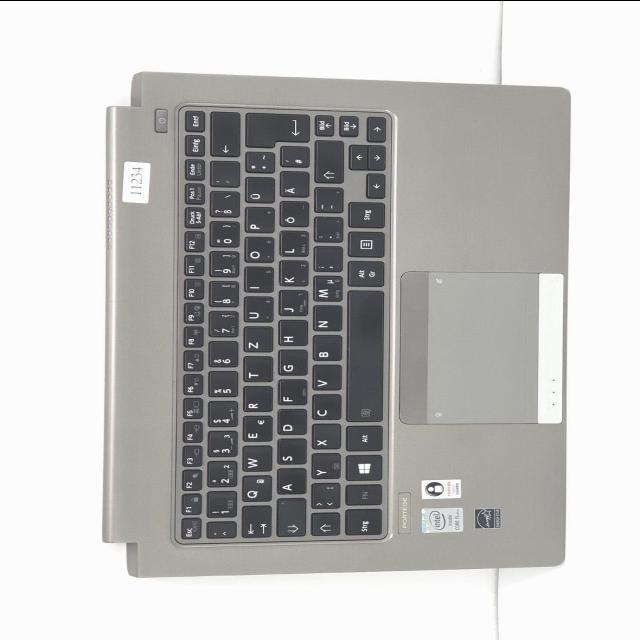0: (207, 222, 238, 249)
1: (204, 492, 235, 519)
2: (205, 461, 236, 488)
3: (205, 432, 235, 459)
4: (205, 403, 235, 429)
5: (206, 373, 236, 399)
6: (206, 342, 236, 368)
7: (206, 312, 237, 339)
8: (207, 282, 237, 308)
9: (207, 252, 237, 279)
a: (274, 469, 304, 496)
accent: (208, 162, 238, 188)
ae: (278, 172, 308, 199)
alt-left: (344, 427, 381, 453)
altgr-right: (345, 261, 383, 288)
b: (309, 336, 340, 363)
c: (310, 395, 340, 421)
caret: (204, 523, 234, 540)
comma: (311, 247, 341, 273)
d: (274, 411, 305, 437)
del: (208, 113, 238, 158)
e: (240, 417, 271, 444)
enter: (241, 114, 309, 149)
f: (275, 381, 305, 407)
g: (275, 352, 305, 378)
h: (276, 321, 306, 347)
hash: (278, 147, 308, 169)
i: (242, 268, 272, 294)
j: (276, 292, 307, 318)
k: (277, 262, 307, 288)
keyboard: (167, 102, 399, 550)
l: (277, 232, 307, 258)
less: (309, 483, 339, 510)
m: (310, 276, 342, 304)
minus: (312, 188, 342, 215)
n: (310, 307, 341, 333)
o: (242, 239, 273, 265)
oe: (277, 203, 308, 229)
p: (242, 208, 273, 235)
plus: (242, 153, 273, 175)
point: (311, 218, 341, 244)
q: (239, 477, 271, 504)
r: (241, 388, 271, 414)
s: (274, 440, 306, 466)
shift-left: (309, 514, 339, 538)
shift-lock: (273, 500, 304, 538)
shift-right: (311, 142, 341, 185)
space: (344, 291, 382, 423)
ss: (208, 192, 238, 219)
strg-left: (342, 510, 381, 538)
strg-right: (345, 203, 383, 230)
t: (240, 358, 270, 384)
tab: (238, 507, 270, 539)
u: (241, 298, 272, 324)
ue: (242, 178, 273, 205)
v: (310, 366, 340, 392)
w: (239, 447, 271, 473)
x: (309, 425, 339, 451)
y: (309, 454, 339, 481)
z: (241, 328, 271, 354)
